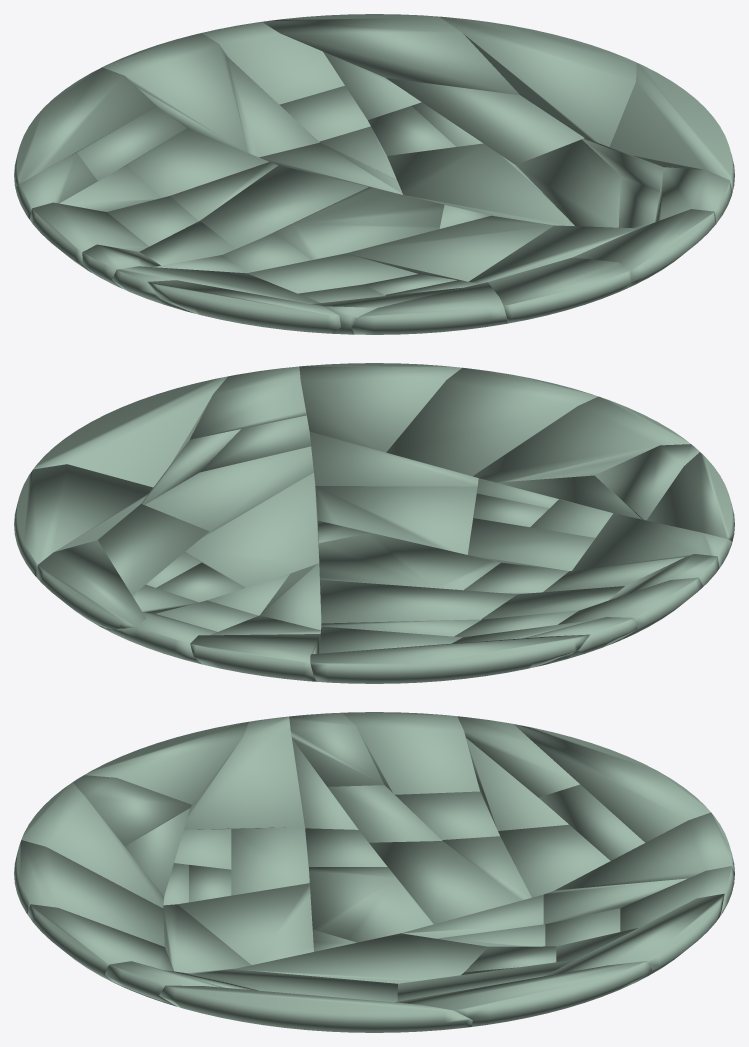
File: collision-hulls.glb
3 renders of one model, top to bottom at view 1: azimuth 30°, elevation 25°; view 2: azimuth 150°, elevation 25°; view 3: azimuth 270°, elevation 25°, orthographic.
Visible parts, largest first — view 1: fragment-008-hull-00, fragment-006-hull-00, fragment-020-hull-00, fragment-015-hull-00, fragment-009-hull-00, fragment-017-hull-00, fragment-006-hull-01, fragment-018-hull-00, fragment-022-hull-00, fragment-004-hull-00, fragment-002-hull-02, fragment-012-hull-00 (+33 smaller); view 2: fragment-012-hull-00, fragment-013-hull-00, fragment-009-hull-00, fragment-001-hull-00, fragment-008-hull-00, fragment-017-hull-00, fragment-015-hull-00, fragment-022-hull-00, fragment-018-hull-00, fragment-005-hull-03, fragment-004-hull-00, fragment-006-hull-00 (+33 smaller); view 3: fragment-009-hull-00, fragment-011-hull-00, fragment-017-hull-00, fragment-003-hull-02, fragment-012-hull-00, fragment-015-hull-00, fragment-022-hull-00, fragment-018-hull-00, fragment-008-hull-00, fragment-004-hull-00, fragment-001-hull-00, fragment-000-hull-02 (+31 smaller).
Boxes of the visible parts, bbox=[...] form: fragment-008-hull-00: bbox=[439, 16, 636, 146]; fragment-006-hull-00: bbox=[262, 14, 519, 95]; fragment-020-hull-00: bbox=[102, 33, 247, 152]; fragment-015-hull-00: bbox=[387, 143, 574, 225]; fragment-009-hull-00: bbox=[609, 63, 734, 192]; fragment-017-hull-00: bbox=[14, 67, 156, 187]; fragment-006-hull-01: bbox=[386, 78, 584, 164]; fragment-018-hull-00: bbox=[274, 187, 444, 260]; fragment-022-hull-00: bbox=[346, 215, 553, 281]; fragment-004-hull-00: bbox=[200, 165, 368, 248]; fragment-002-hull-02: bbox=[202, 21, 344, 104]; fragment-012-hull-00: bbox=[488, 257, 631, 323]; fragment-012-hull-00: bbox=[386, 367, 598, 476]; fragment-013-hull-00: bbox=[299, 363, 461, 452]; fragment-009-hull-00: bbox=[33, 376, 227, 487]; fragment-001-hull-00: bbox=[473, 396, 690, 482]; fragment-008-hull-00: bbox=[14, 464, 153, 577]; fragment-017-hull-00: bbox=[310, 634, 589, 683]; fragment-015-hull-00: bbox=[185, 473, 319, 587]; fragment-022-hull-00: bbox=[315, 486, 477, 554]; fragment-018-hull-00: bbox=[318, 533, 500, 590]; fragment-005-hull-03: bbox=[145, 446, 313, 531]; fragment-004-hull-00: bbox=[320, 579, 516, 623]; fragment-006-hull-00: bbox=[37, 540, 146, 629]; fragment-009-hull-00: bbox=[159, 985, 472, 1032]; fragment-011-hull-00: bbox=[184, 716, 304, 829]; fragment-017-hull-00: bbox=[514, 724, 710, 842]; fragment-003-hull-02: bbox=[342, 712, 479, 794]; fragment-012-hull-00: bbox=[14, 840, 164, 946]; fragment-015-hull-00: bbox=[233, 933, 488, 983]; fragment-022-hull-00: bbox=[178, 883, 313, 964]; fragment-018-hull-00: bbox=[309, 867, 433, 942]; fragment-008-hull-00: bbox=[395, 961, 652, 1026]; fragment-004-hull-00: bbox=[369, 841, 520, 924]; fragment-001-hull-00: bbox=[21, 782, 163, 907]; fragment-000-hull-02: bbox=[84, 721, 248, 804].
Bounding box in the file's own units: 0.25 × 0.026 × 0.25.
